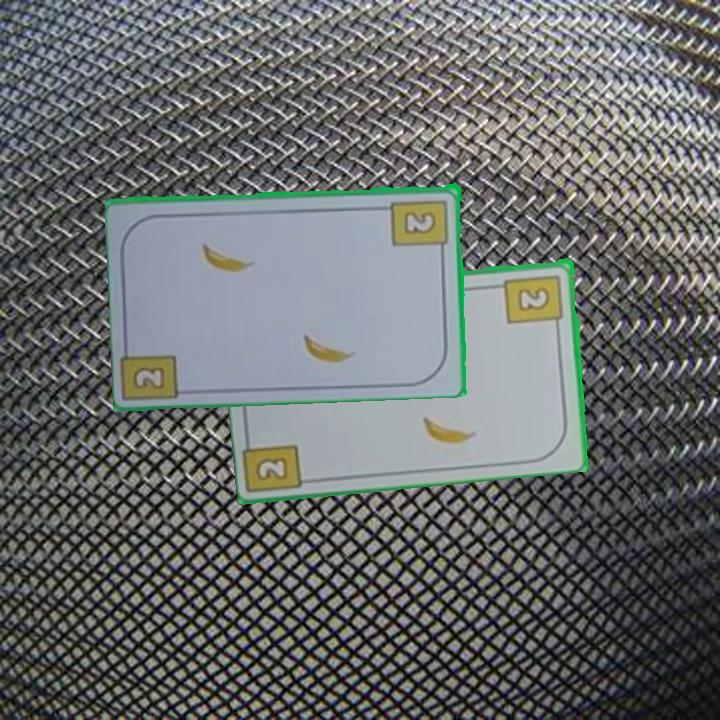2b: (502, 271, 567, 332), (389, 196, 451, 257), (252, 453, 292, 484), (129, 363, 169, 394)
